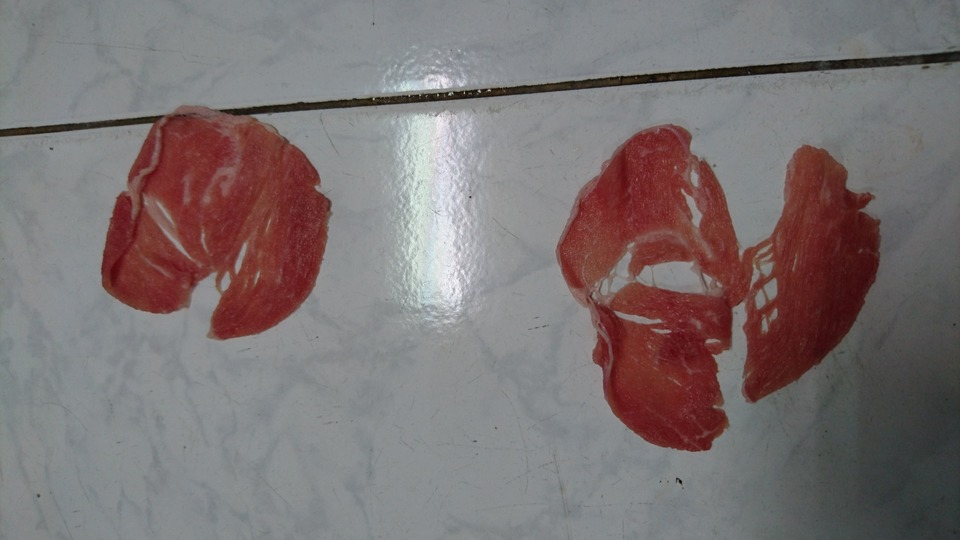restructured meat: (562, 95, 872, 453), (84, 96, 376, 363)
